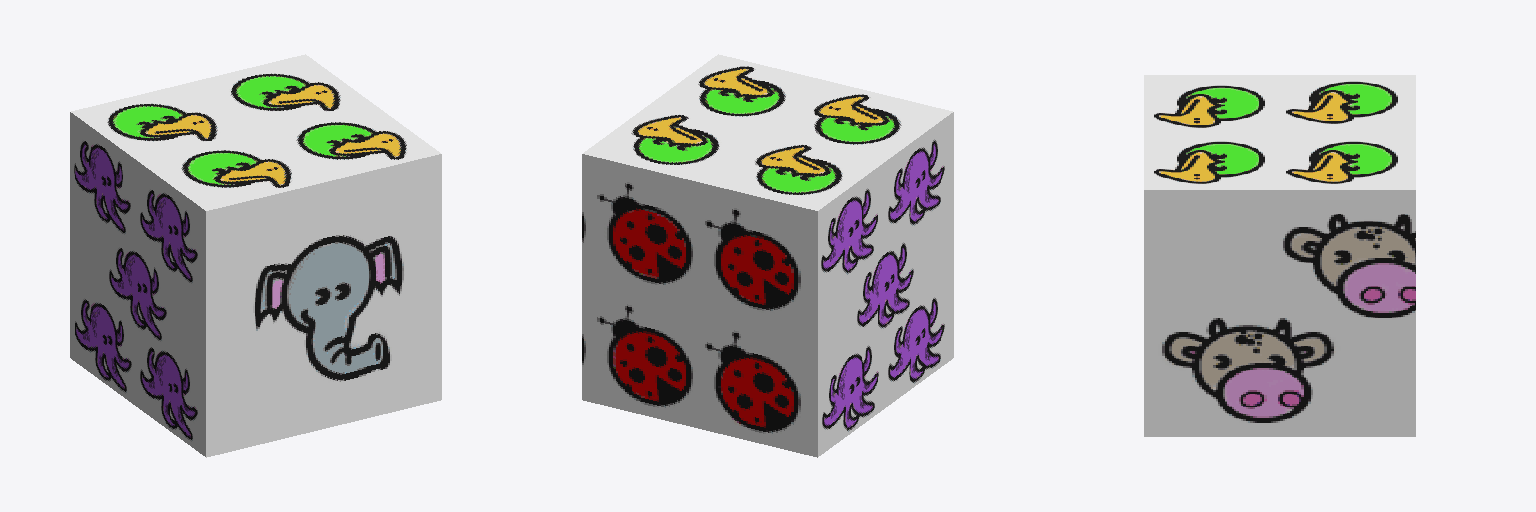
The picture shows the model from 3 angles: view 1: azimuth 30°, elevation 25°; view 2: azimuth 150°, elevation 25°; view 3: azimuth 270°, elevation 25°; orthographic projection.
Parts seen in each view (by area): view 1: Box001; view 2: Box001; view 3: Box001.
Part boxes in pixels (bbox=[...]): Box001: bbox=[70, 54, 441, 457]; Box001: bbox=[582, 54, 953, 457]; Box001: bbox=[1144, 75, 1415, 436].
Bounding box in the file's own units: 19.09 × 19.09 × 19.09.
Materials: 1 (1 with a texture image).